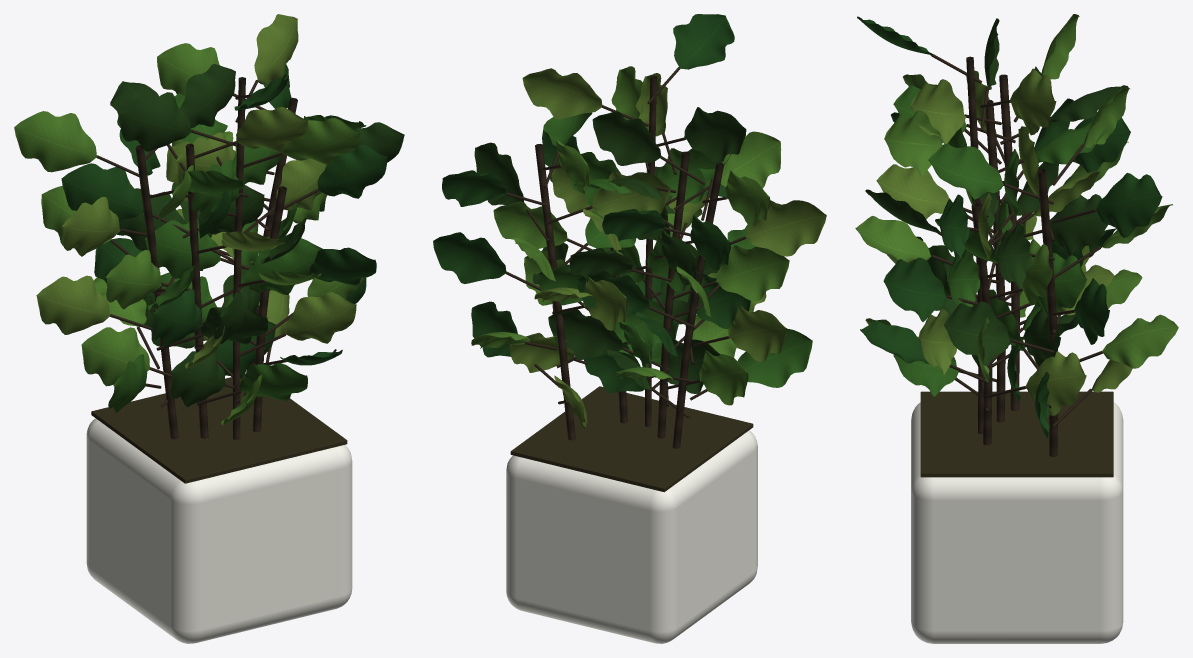
File: 06-large-fiddle-leaf-fig.glb
The picture shows the model from 3 angles, left to right: view 1: azimuth 30°, elevation 25°; view 2: azimuth 150°, elevation 25°; view 3: azimuth 270°, elevation 25°; orthographic projection. The views are drawn at different scales.
Parts seen in each view (by area): view 1: Ivory painted wood, Leaf green 4, Leaf green 2, Leaf green 3, Leaf green 0, Leaf green 1, Potting soil, Woven brown rattan; view 2: Ivory painted wood, Leaf green 4, Leaf green 0, Leaf green 2, Leaf green 3, Potting soil, Woven brown rattan, Leaf green 1; view 3: Ivory painted wood, Leaf green 4, Potting soil, Leaf green 0, Leaf green 2, Leaf green 3, Leaf green 1, Woven brown rattan.
Part boxes in pixels (x1=…): Ivory painted wood: x1=86, y1=418, x2=352, y2=643; Leaf green 4: x1=36, y1=14, x2=356, y2=368; Leaf green 2: x1=14, y1=43, x2=364, y2=425; Leaf green 3: x1=110, y1=64, x2=404, y2=407; Leaf green 0: x1=61, y1=64, x2=387, y2=378; Leaf green 1: x1=108, y1=93, x2=366, y2=412; Potting soil: x1=91, y1=373, x2=347, y2=483; Woven brown rattan: x1=96, y1=77, x2=318, y2=439; Ivory painted wood: x1=506, y1=430, x2=757, y2=643; Leaf green 4: x1=509, y1=68, x2=826, y2=428; Leaf green 0: x1=433, y1=14, x2=750, y2=393; Leaf green 2: x1=471, y1=66, x2=789, y2=405; Leaf green 3: x1=474, y1=107, x2=746, y2=393; Potting soil: x1=510, y1=386, x2=753, y2=492; Woven brown rattan: x1=505, y1=67, x2=746, y2=448; Leaf green 1: x1=538, y1=112, x2=812, y2=387; Ivory painted wood: x1=911, y1=402, x2=1123, y2=643; Leaf green 4: x1=876, y1=68, x2=1132, y2=415; Potting soil: x1=920, y1=391, x2=1113, y2=477; Leaf green 0: x1=857, y1=16, x2=1162, y2=438; Leaf green 2: x1=855, y1=14, x2=1178, y2=382; Leaf green 3: x1=865, y1=18, x2=1128, y2=366; Leaf green 1: x1=893, y1=85, x2=1108, y2=396; Woven brown rattan: x1=931, y1=54, x2=1103, y2=456.
Bounding box in the file's own units: 1.1 × 1.67 × 0.838.
Materials: 8 (6 with a texture image).
